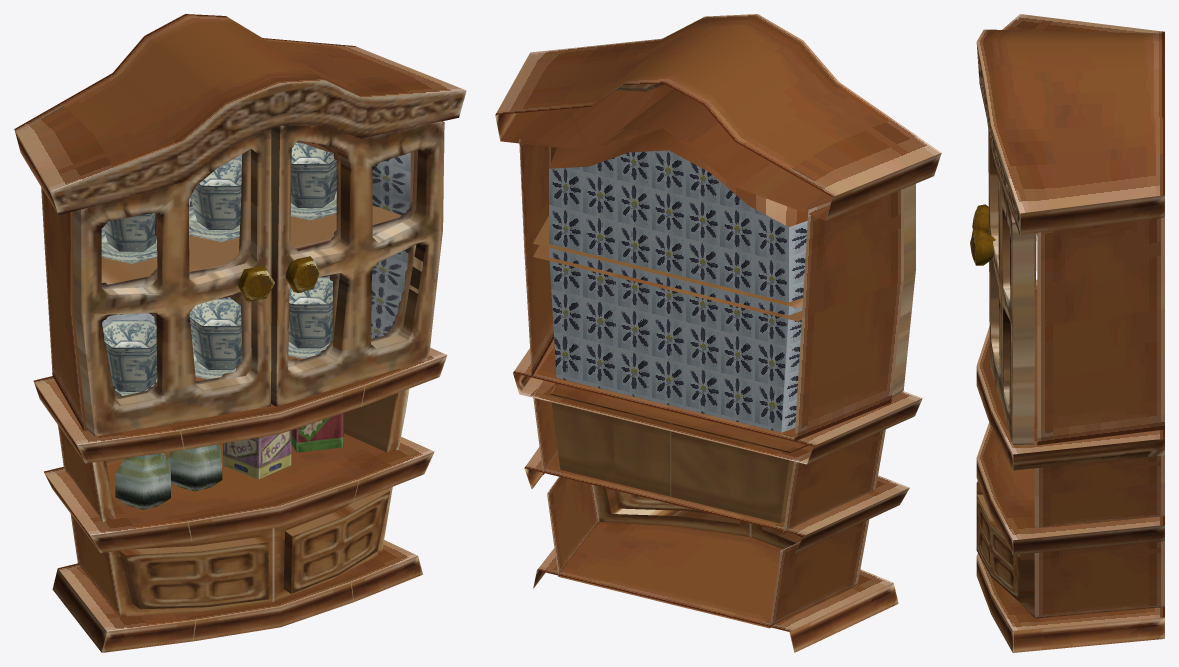
File: kitchen_pantry.obj
3 views of the same model, side by side, from view 1: azimuth 30°, elevation 25°; view 2: azimuth 150°, elevation 25°; view 3: azimuth 270°, elevation 25° (orthographic).
Parts seen in each view (by area): view 1: part8_texture7, part9_texture3, part0_texture0.010, part0_texture0.009, part10_texture8, part2_texture0, part7_texture6, part4_texture4.002, part6_texture5, part1_texture9, part2_texture2.007, part2_texture2.006 (+1 smaller); view 2: part8_texture7, part5_texture4.001, part9_texture3, part3_texture3.003, part4_texture4.002, part0_texture0.010; view 3: part8_texture7, part9_texture3, part0_texture0.009, part2_texture0, part2_texture2.006, part2_texture2.007.
Boxes of the visible parts, left/top/right/bottom form: part8_texture7: left=14, top=14, right=465, bottom=631; part9_texture3: left=14, top=129, right=447, bottom=652; part0_texture0.010: left=73, top=129, right=271, bottom=436; part0_texture0.009: left=271, top=121, right=444, bottom=406; part10_texture8: left=103, top=142, right=336, bottom=391; part2_texture0: left=51, top=81, right=466, bottom=215; part7_texture6: left=115, top=444, right=222, bottom=509; part4_texture4.002: left=320, top=152, right=410, bottom=338; part6_texture5: left=223, top=413, right=343, bottom=479; part1_texture9: left=101, top=158, right=336, bottom=395; part2_texture2.007: left=238, top=266, right=274, bottom=301; part2_texture2.006: left=286, top=256, right=319, bottom=292; part8_texture7: left=495, top=14, right=941, bottom=631; part5_texture4.001: left=549, top=150, right=788, bottom=432; part9_texture3: left=495, top=113, right=941, bottom=652; part3_texture3.003: left=549, top=128, right=807, bottom=226; part4_texture4.002: left=781, top=221, right=807, bottom=432; part0_texture0.010: left=892, top=183, right=915, bottom=397; part8_texture7: left=976, top=14, right=1164, bottom=630; part9_texture3: left=976, top=195, right=1164, bottom=652; part0_texture0.009: left=988, top=130, right=1034, bottom=444; part2_texture0: left=976, top=43, right=1019, bottom=233; part2_texture2.006: left=970, top=228, right=995, bottom=265; part2_texture2.007: left=972, top=204, right=988, bottom=232.
Bounding box in the file's own units: 3.23 × 4.03 × 1.33.
Materials: 11 (11 with a texture image).
